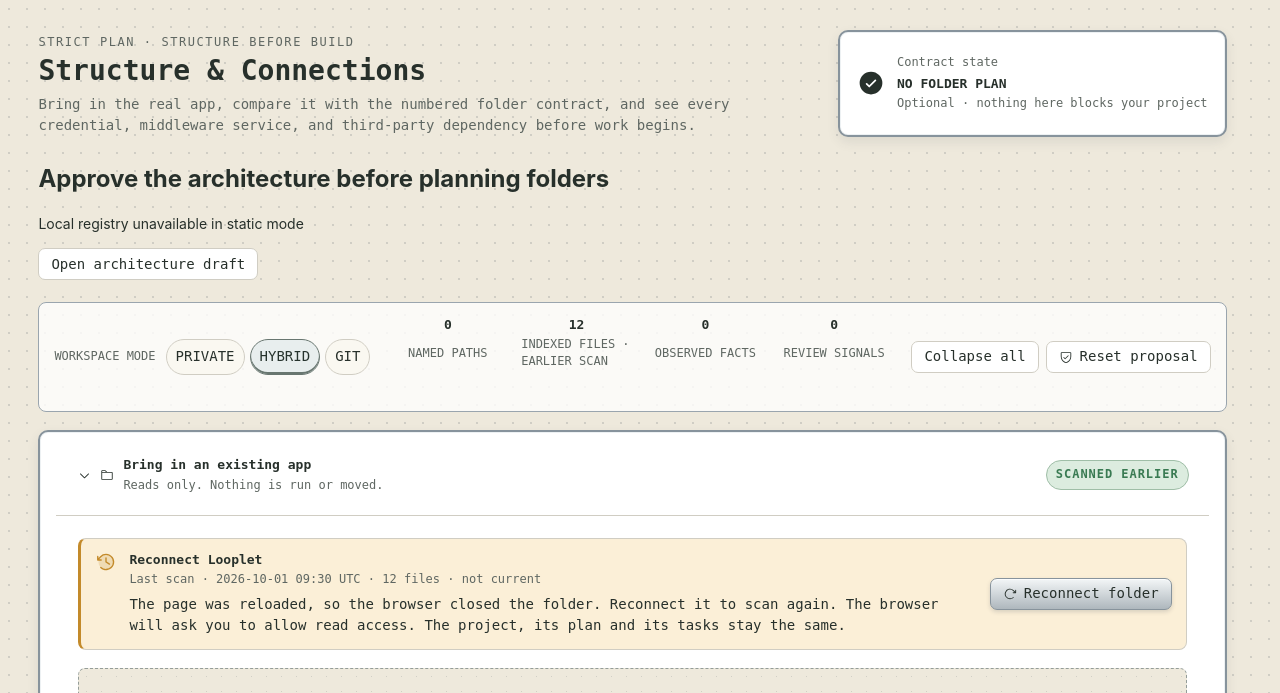
Structure folder reconnect after reload › a refused permission is shown plainly and nothing is read
Click the button "Reconnect folder" at (1081, 594), box [990,578,1172,610]
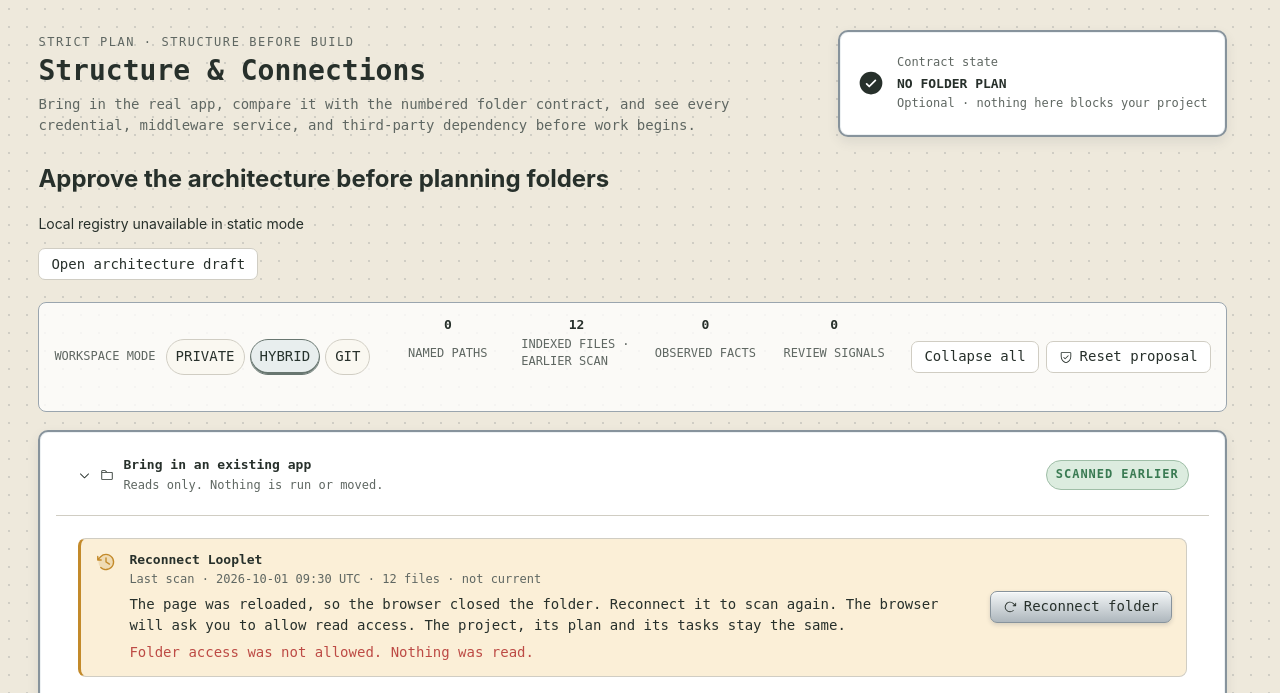
Expected: the element named "Folder connection" shows "not current", [440,572,541,586]
Expected: the message shows "Folder access was not allowed", [129,644,534,660]
